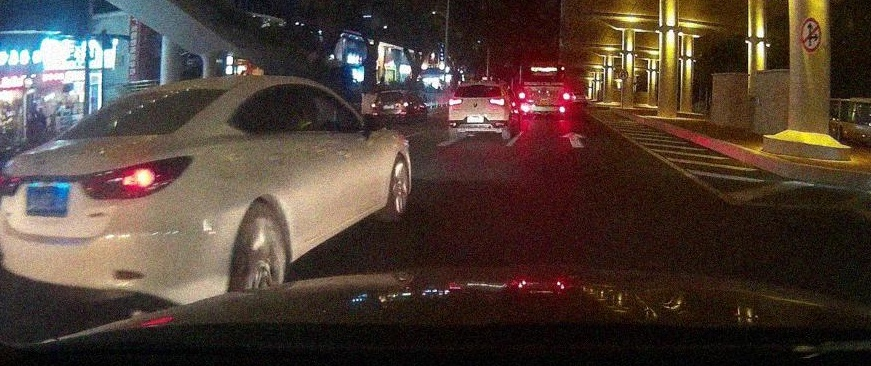L_light: (0, 172, 23, 197), (449, 99, 462, 106), (519, 92, 525, 100)
R_light: (80, 154, 193, 200), (489, 98, 505, 106), (563, 92, 570, 100)
T_light: (141, 93, 162, 98), (472, 84, 485, 87), (540, 64, 547, 67)
night-no: (449, 81, 507, 139), (519, 61, 570, 119)
night-right: (0, 73, 229, 305)
